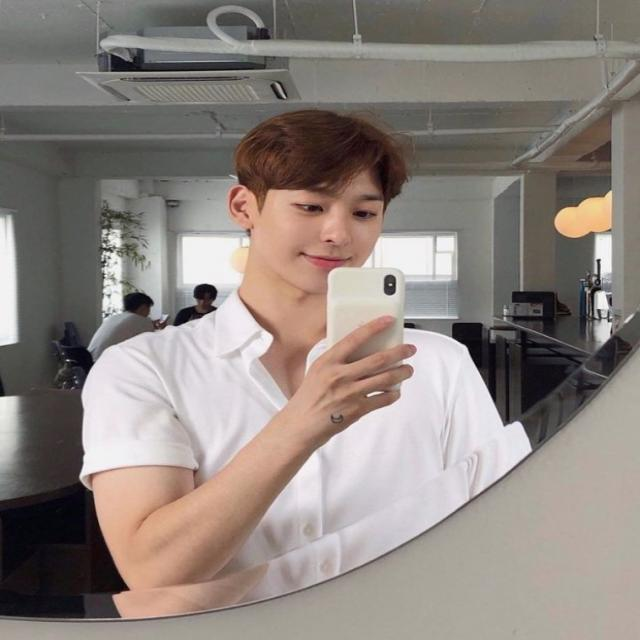phone: (326, 267, 406, 392)
